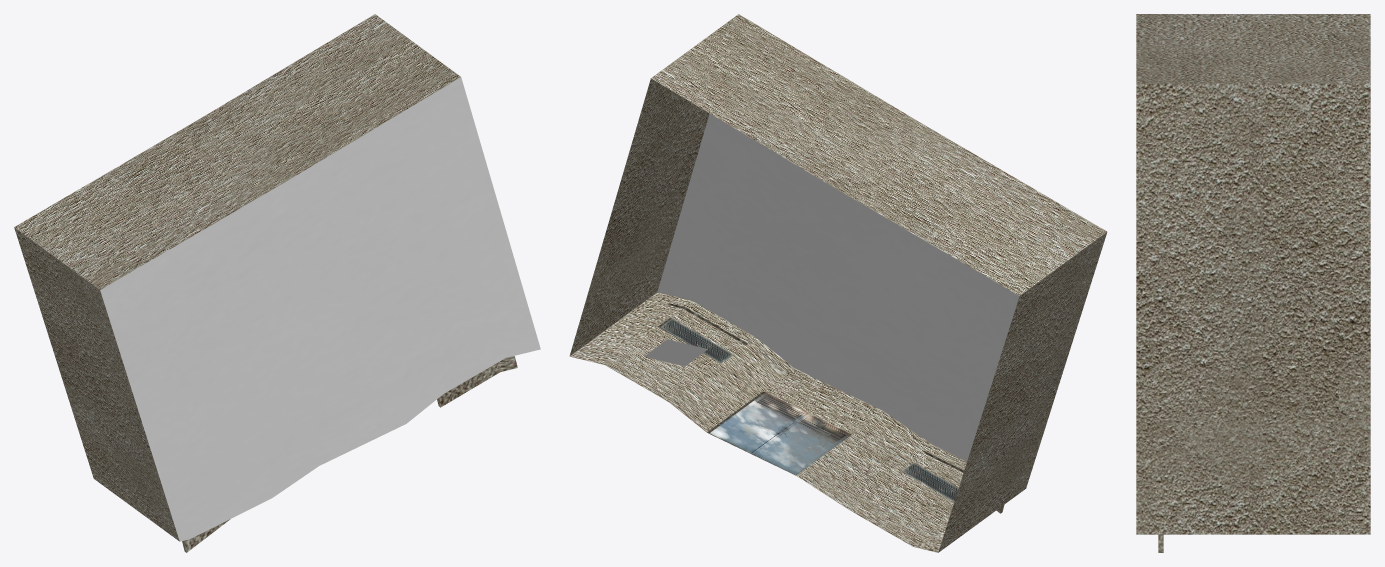
Rendered from Tp4a_1-origo.obj.
3 views of the same model, side by side, from view 1: azimuth 30°, elevation 25°; view 2: azimuth 150°, elevation 25°; view 3: azimuth 270°, elevation 25° (orthographic). The views are drawn at different scales.
Visible parts, largest first — view 1: polySurface1; view 2: polySurface1; view 3: polySurface1.
Part boxes in pixels (box(x1,y1,x2,y2)): polySurface1: box(14, 14, 540, 552); polySurface1: box(569, 14, 1107, 552); polySurface1: box(1136, 14, 1370, 552).
Size of the model in its own units: 11.06 by 10 by 3.74.
